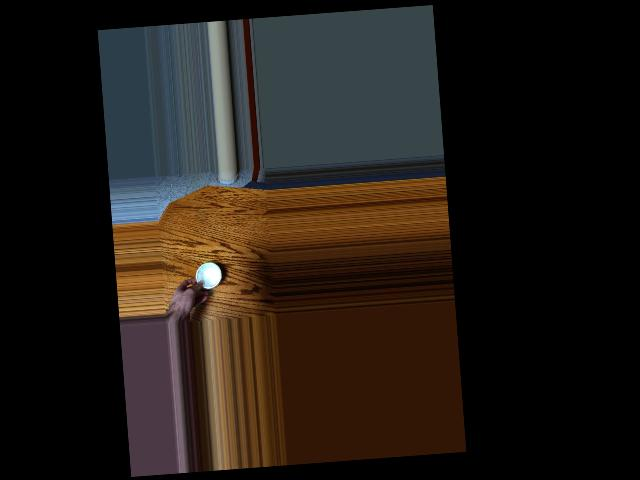cotage: (191, 261, 224, 290)
